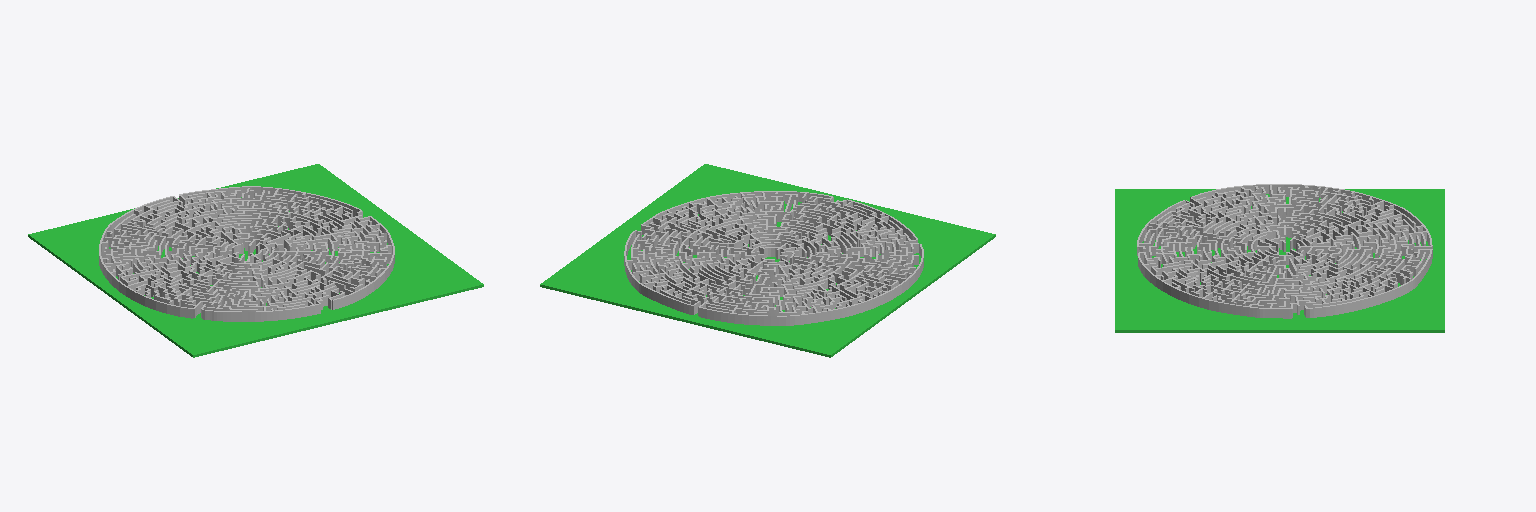
Rendered from LaberintoMedio.obj.
The picture shows the model from 3 angles: view 1: azimuth 30°, elevation 25°; view 2: azimuth 150°, elevation 25°; view 3: azimuth 270°, elevation 25°; orthographic projection.
Parts seen in each view (by area): view 1: Curve.489, Cube; view 2: Curve.489, Cube; view 3: Curve.489, Cube.
Part boxes in pixels (left/top/right/bottom): Curve.489: left=99, top=186, right=394, bottom=321; Cube: left=28, top=164, right=483, bottom=357; Curve.489: left=624, top=191, right=923, bottom=325; Cube: left=540, top=164, right=995, bottom=357; Curve.489: left=1137, top=184, right=1432, bottom=318; Cube: left=1115, top=189, right=1444, bottom=332.
Bounding box in the file's own units: 11.78 × 0.4654 × 11.59.